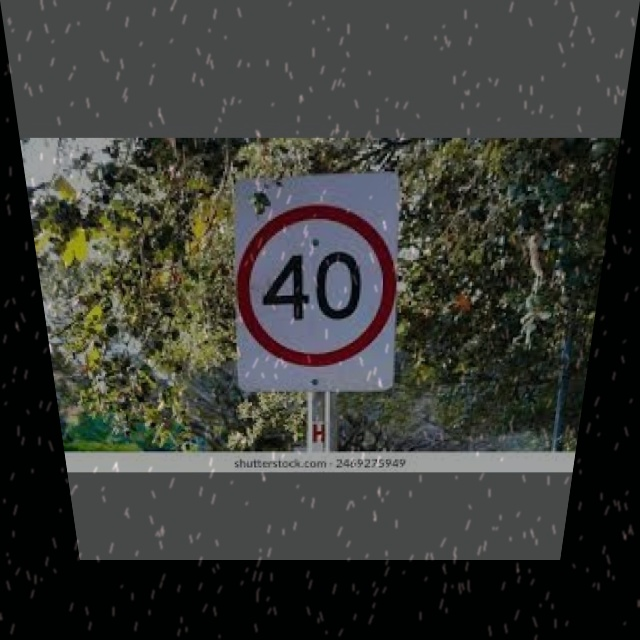Speed_Limit_40: (227, 205, 404, 369)
